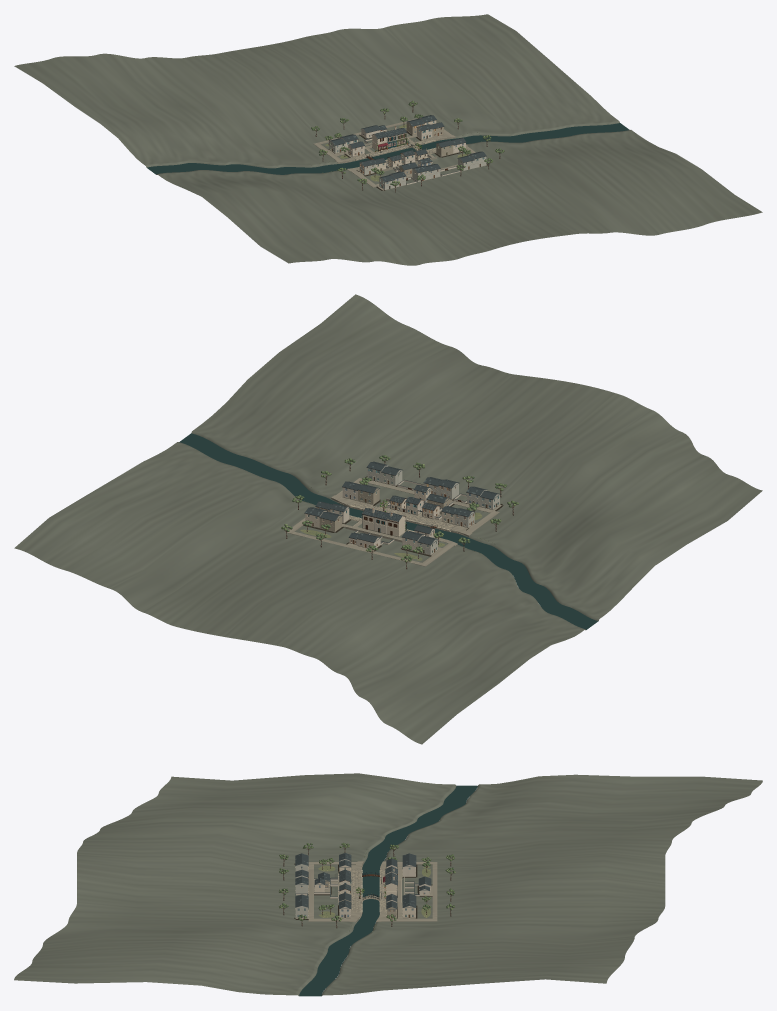
Rendered from space-08.glb.
3 views of the same model, one above another, from view 1: azimuth 30°, elevation 25°; view 2: azimuth 150°, elevation 25°; view 3: azimuth 270°, elevation 25° (orthographic). The views are drawn at different scales.
Parts seen in each view (by area): view 1: ROAM01_Surface / EXT_B02_DampMineralGround, ROAM01_Water, ROAM01_Surface / SPACE08_Roof, ROAM01_Surface / paving, ROAM01_Surface / SPACE08_WarmGreyPlaster, ROAM01_Surface / SPACE06_Leaf, ROAM01_Surface / SPACE08_PlasterAlt, ROAM01_Surface / stone, ROAM01_Surface / roof; view 2: ROAM01_Surface / EXT_B02_DampMineralGround, ROAM01_Water, ROAM01_Surface / SPACE08_Roof, ROAM01_Surface / paving, ROAM01_Surface / SPACE08_WarmGreyPlaster, ROAM01_Surface / SPACE06_Leaf, ROAM01_Surface / stone; view 3: ROAM01_Surface / EXT_B02_DampMineralGround, ROAM01_Water, ROAM01_Surface / paving, ROAM01_Surface / SPACE08_Roof, ROAM01_Surface / SPACE06_Leaf, ROAM01_Surface / roof.
Boxes of the visible parts, x1,y1,x2,y2 form: ROAM01_Surface / EXT_B02_DampMineralGround: (14,14,762,265); ROAM01_Water: (147,123,629,174); ROAM01_Surface / SPACE08_Roof: (329,115,486,182); ROAM01_Surface / paving: (313,118,487,190); ROAM01_Surface / SPACE08_WarmGreyPlaster: (329,141,486,189); ROAM01_Surface / SPACE06_Leaf: (311,100,504,185); ROAM01_Surface / SPACE08_PlasterAlt: (340,127,465,156); ROAM01_Surface / stone: (314,134,455,187); ROAM01_Surface / roof: (364,127,460,183); ROAM01_Surface / EXT_B02_DampMineralGround: (14,294,762,744); ROAM01_Water: (179,433,598,629); ROAM01_Surface / SPACE08_Roof: (304,461,500,545); ROAM01_Surface / paving: (285,478,501,566); ROAM01_Surface / SPACE08_WarmGreyPlaster: (367,465,499,554); ROAM01_Surface / SPACE06_Leaf: (282,455,518,561); ROAM01_Surface / stone: (287,483,499,566); ROAM01_Surface / EXT_B02_DampMineralGround: (14,773,762,995); ROAM01_Water: (299,785,477,996); ROAM01_Surface / paving: (295,861,437,921); ROAM01_Surface / SPACE08_Roof: (295,853,431,909); ROAM01_Surface / SPACE06_Leaf: (279,843,455,921); ROAM01_Surface / roof: (295,866,419,898).
Bounding box in the file's own units: 245 × 11.32 × 368.
